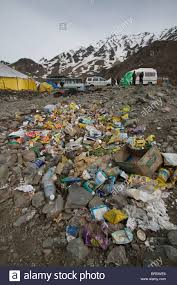garbage: (37, 101, 177, 247), (8, 113, 175, 206), (51, 145, 177, 245)
